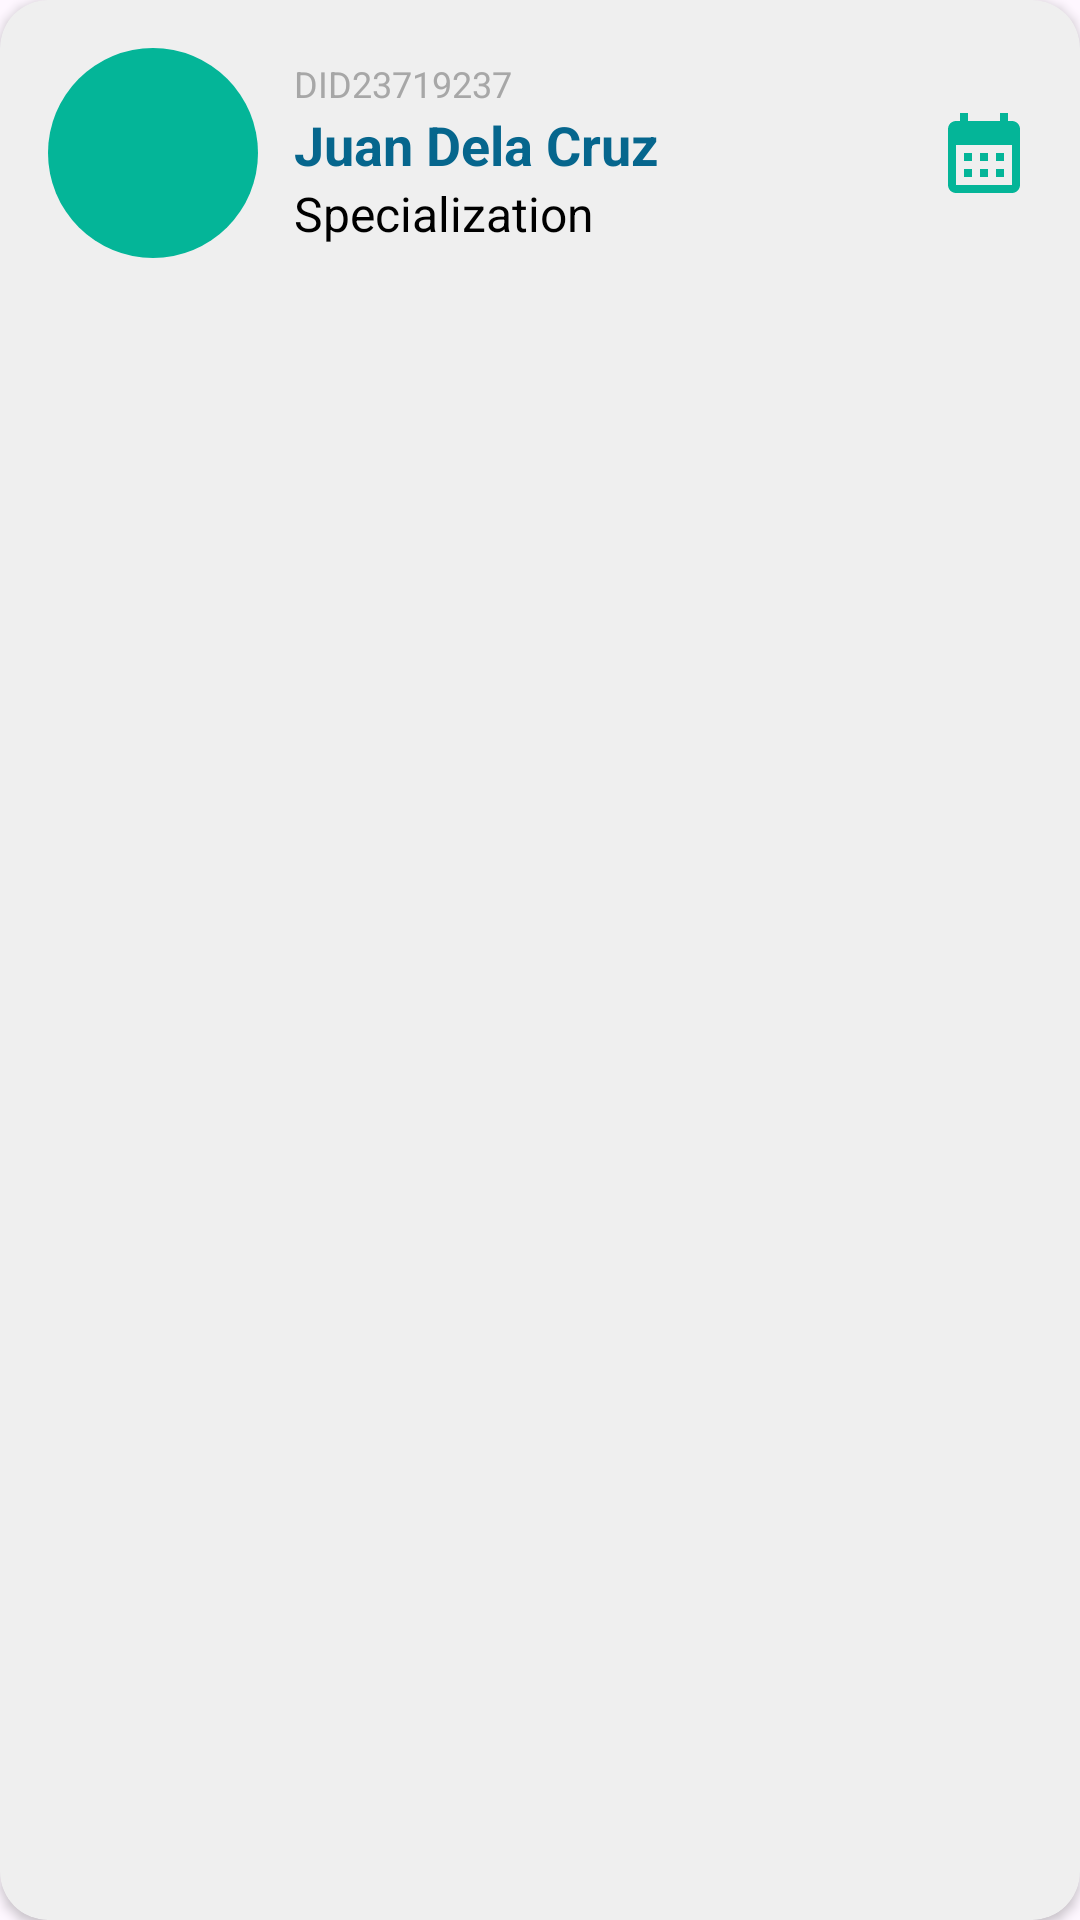

Where icons sit on this 1080w x 1920h app screen, as (x1, y1, x2, y2):
calendar: (948, 113, 1020, 193)
